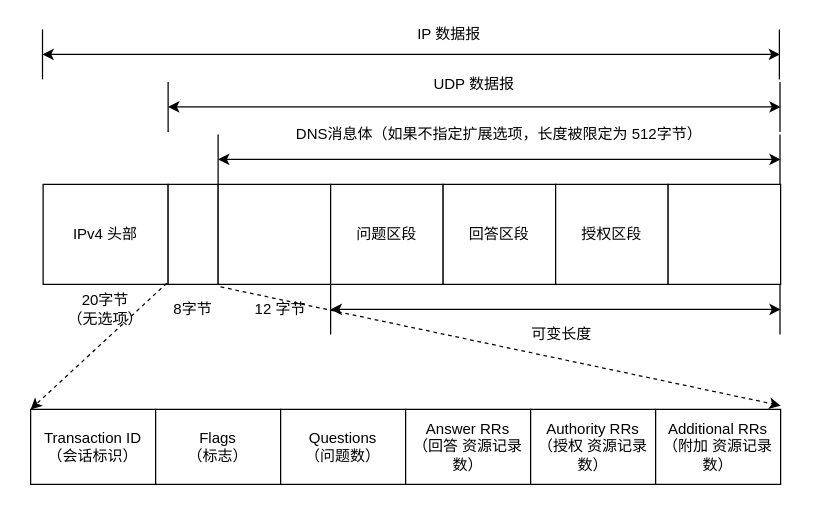
The diagram is 814 pixels wide and 506 high, and some of its shapes have lost their labels. Here are the shapes that lost their labels. From the top down, the box of each, then its label:
(167, 183, 218, 284): UDP 头部
(217, 183, 331, 284): DNS 固定头部
(667, 183, 781, 284): 额外信息区段
